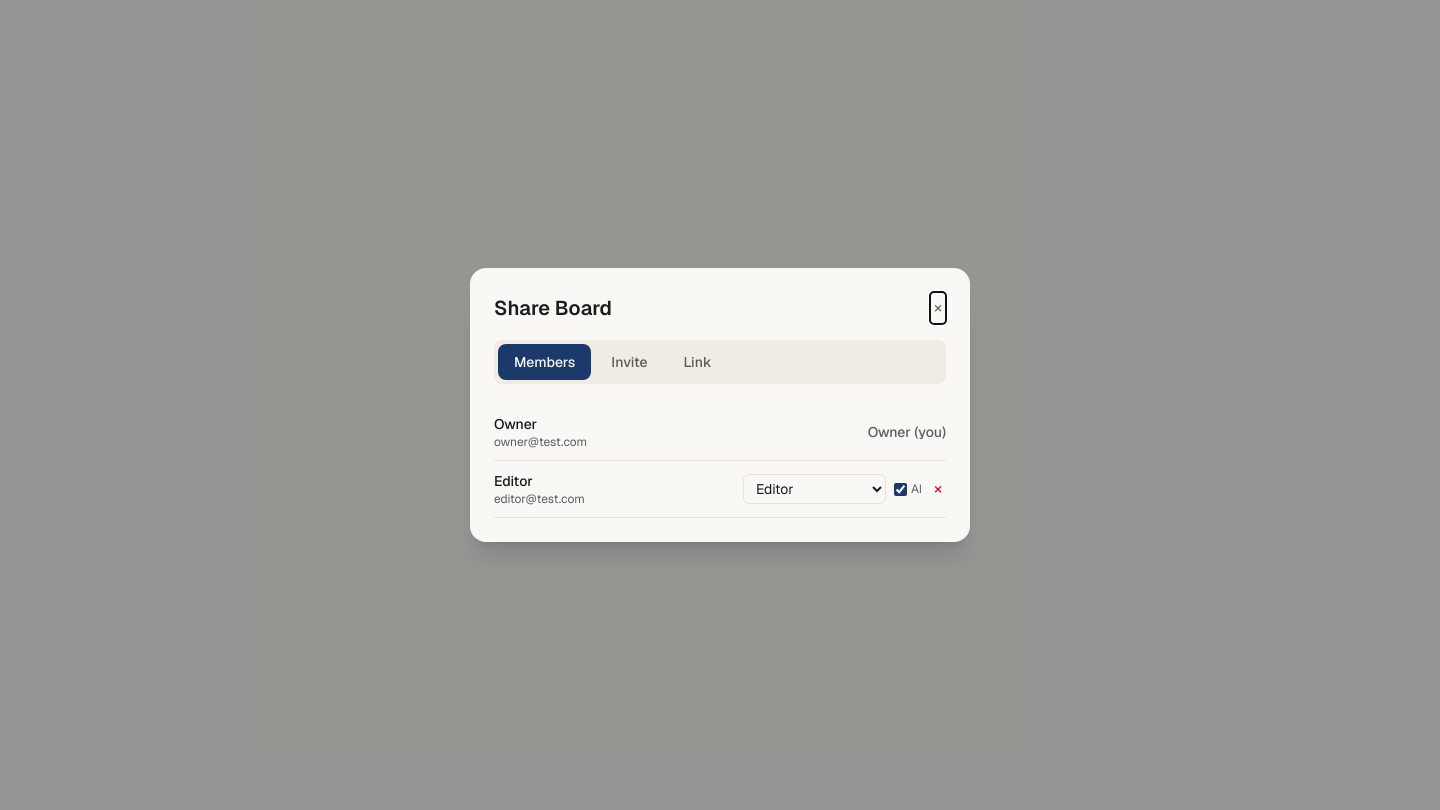
Test: ShareDialog › switches to Invite tab and shows invite form
This screenshot has width=1440, height=810.
Expected: the heading "Share Board" is shown, left=494, top=294, right=612, bottom=322
Step 1. Click the button "Invite" → (629, 362), box left=595, top=344, right=664, bottom=380
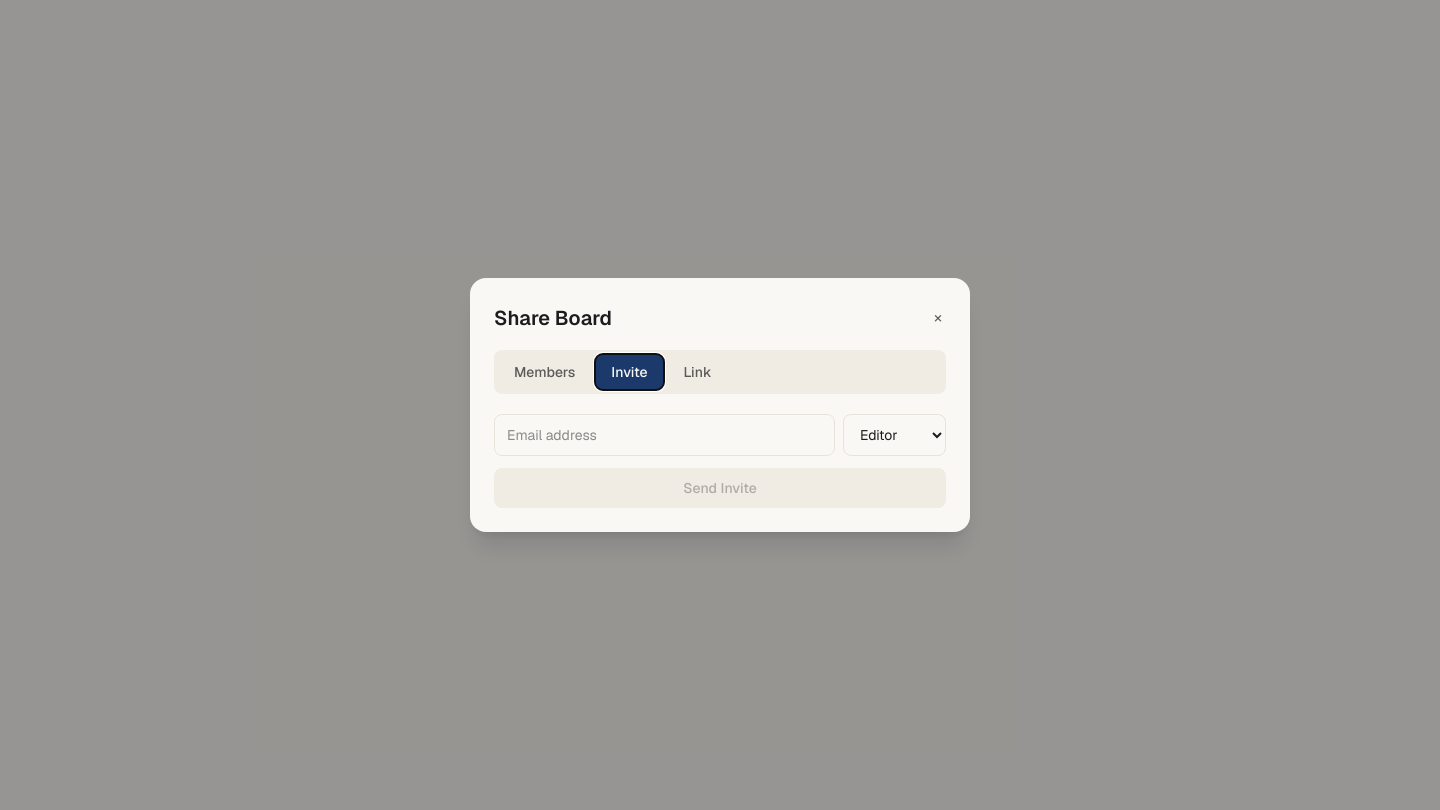
Now the field with placeholder "Email address" is shown, box left=494, top=414, right=835, bottom=456
Now the button "Send Invite" is shown, box left=494, top=468, right=946, bottom=508
